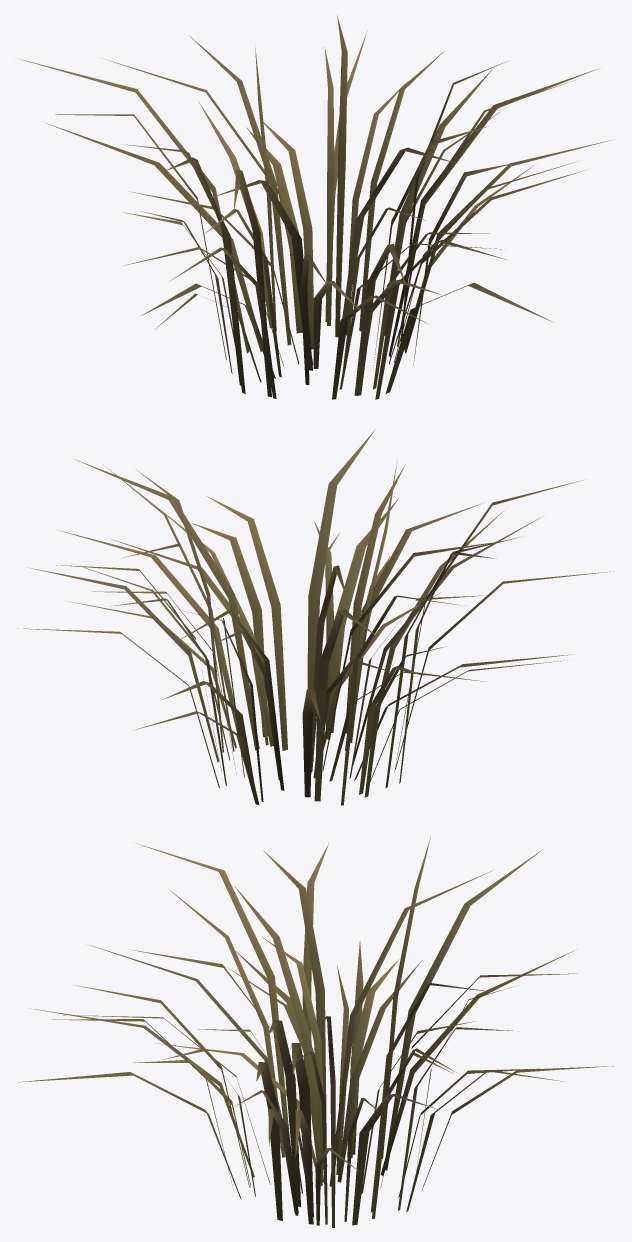
The model's file is dry.glb.
3 renders of one model, top to bottom at view 1: azimuth 30°, elevation 25°; view 2: azimuth 150°, elevation 25°; view 3: azimuth 270°, elevation 25°, orthographic. The views are drawn at different scales.
Parts seen in each view (by area): view 1: dry; view 2: dry; view 3: dry.
Boxes of the visible parts, x1,y1,x2,y2 form: dry: (19,15,613,399); dry: (17,429,613,805); dry: (18,836,613,1227).
Bounding box in the file's own units: 0.76 × 0.3839 × 0.8096.
